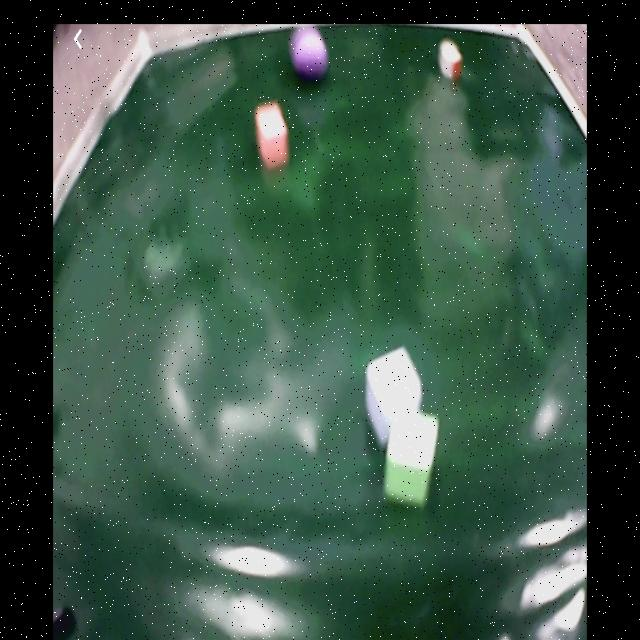ball: (296, 34, 329, 79)
